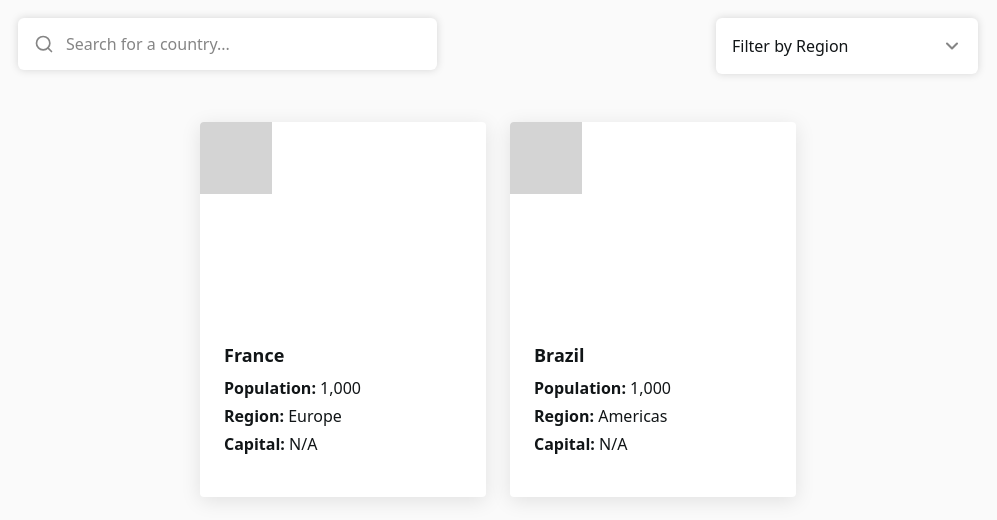
it: HomeShell › filters countries by selected region
Click the button "Filter by Region". click: (847, 46)
box: x1=716 y1=18 x2=978 y2=74
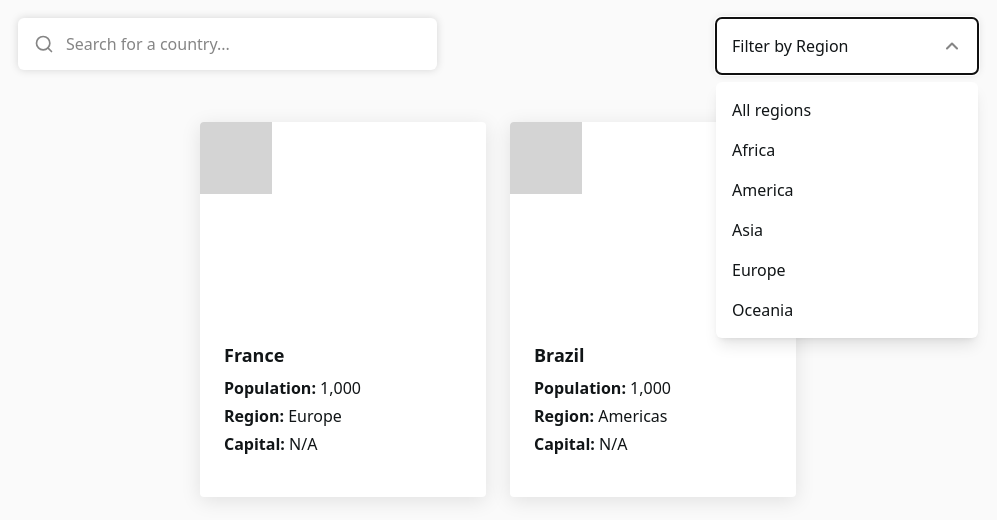
Click the option "America". click: (763, 190)
box: x1=716 y1=170 x2=978 y2=210
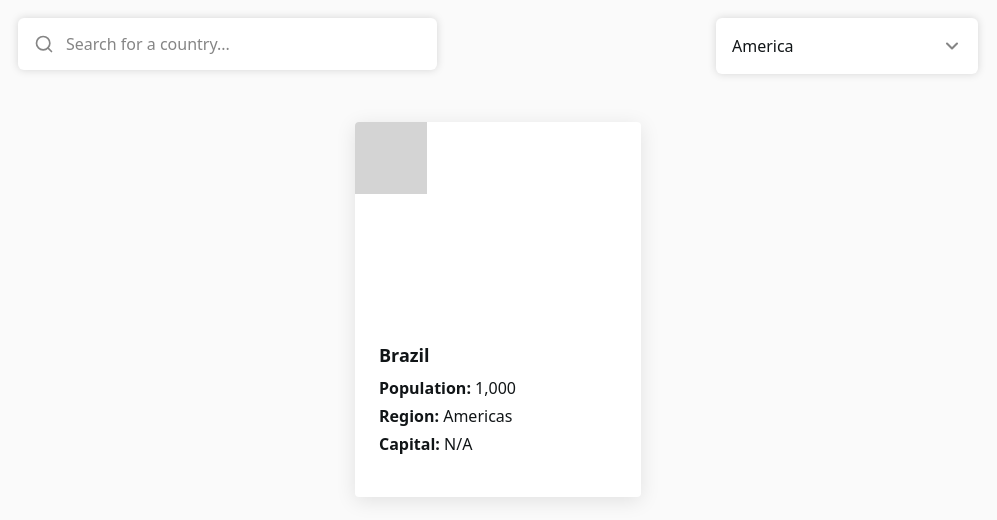
Expected: the heading "Brazil" is shown, x1=379 y1=343 x2=430 y2=367
Expected: the link "France" is gone
